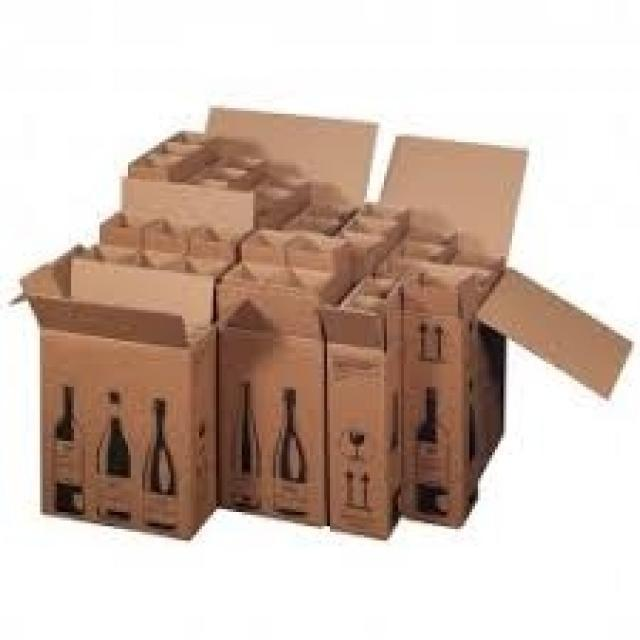cardboard paper: (21, 107, 629, 536)
